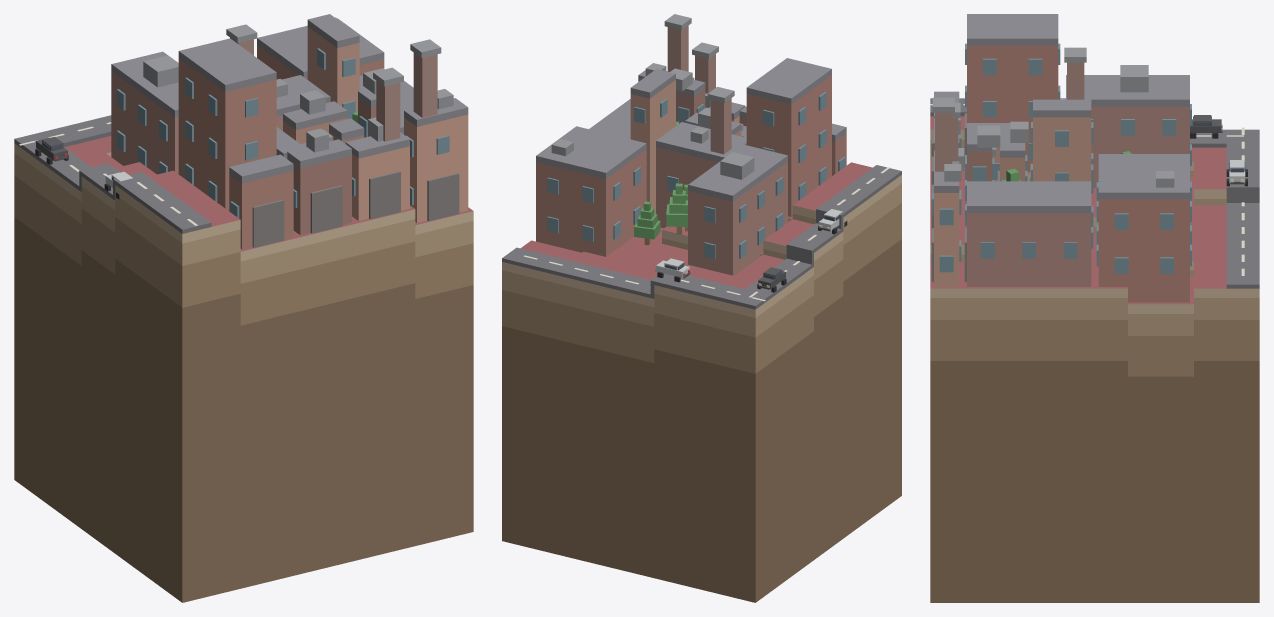
File: block_25_base.glb
3 views of the same model, side by side, from view 1: azimuth 30°, elevation 25°; view 2: azimuth 150°, elevation 25°; view 3: azimuth 270°, elevation 25° (orthographic). The views are drawn at different scales.
Visible parts, largest first — view 1: Patch_UpperRight_b25, Factories_UpperRight_b25, Roads_UpperRight_b25, RCar_15; view 2: Patch_UpperRight_b25, Factories_UpperRight_b25, Roads_UpperRight_b25, FTree_2, FTree_0, RCar_7; view 3: Patch_UpperRight_b25, Factories_UpperRight_b25, Roads_UpperRight_b25, RCar_15, RCar_7.
Boxes of the visible parts, bbox=[...] form: Patch_UpperRight_b25: bbox=[14, 136, 473, 602]; Factories_UpperRight_b25: bbox=[111, 14, 468, 249]; Roads_UpperRight_b25: bbox=[14, 115, 211, 233]; RCar_15: bbox=[35, 137, 68, 164]; Patch_UpperRight_b25: bbox=[502, 162, 901, 602]; Factories_UpperRight_b25: bbox=[536, 14, 846, 275]; Roads_UpperRight_b25: bbox=[502, 165, 901, 309]; FTree_2: bbox=[666, 183, 687, 234]; FTree_0: bbox=[634, 201, 660, 245]; RCar_7: bbox=[655, 258, 690, 282]; Patch_UpperRight_b25: bbox=[930, 116, 1259, 602]; Factories_UpperRight_b25: bbox=[931, 14, 1191, 302]; Roads_UpperRight_b25: bbox=[930, 98, 1259, 288]; RCar_15: bbox=[1190, 115, 1222, 138]; RCar_7: bbox=[1226, 160, 1247, 186].
Size of the model in its own units: 9.6 by 15.31 by 9.5.
